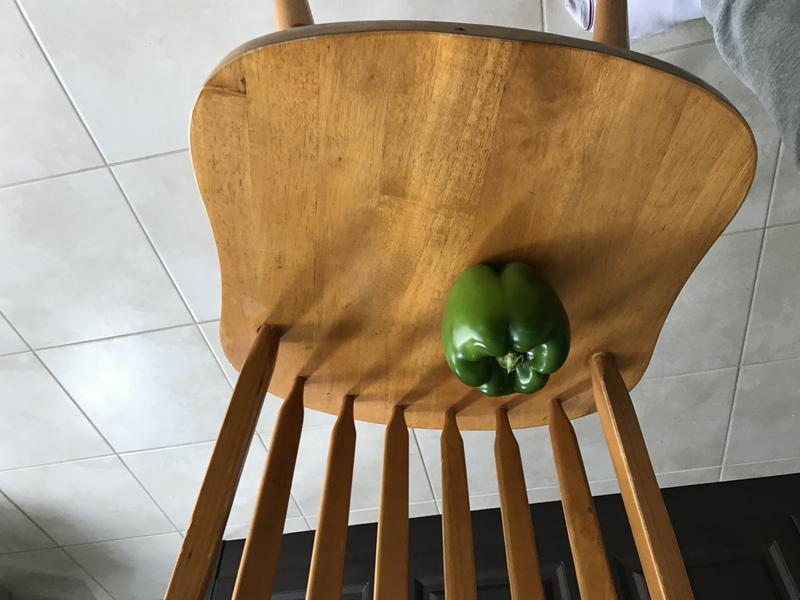green_pepper: (441, 253, 579, 404)
